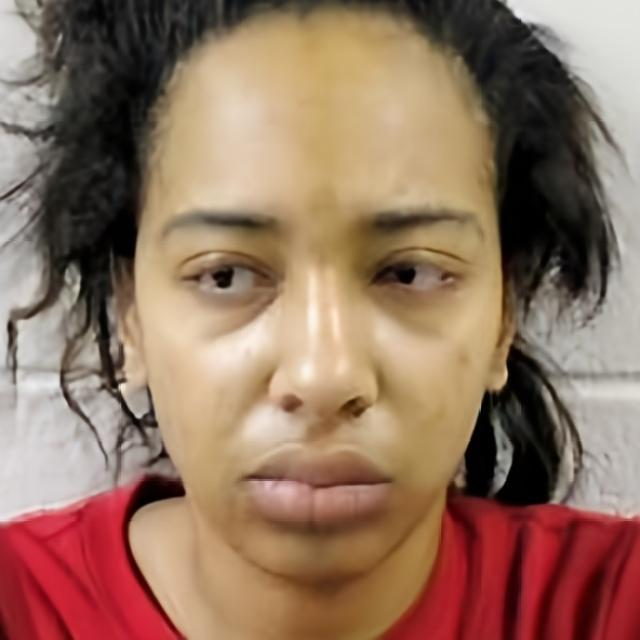sad: (137, 40, 502, 584)
